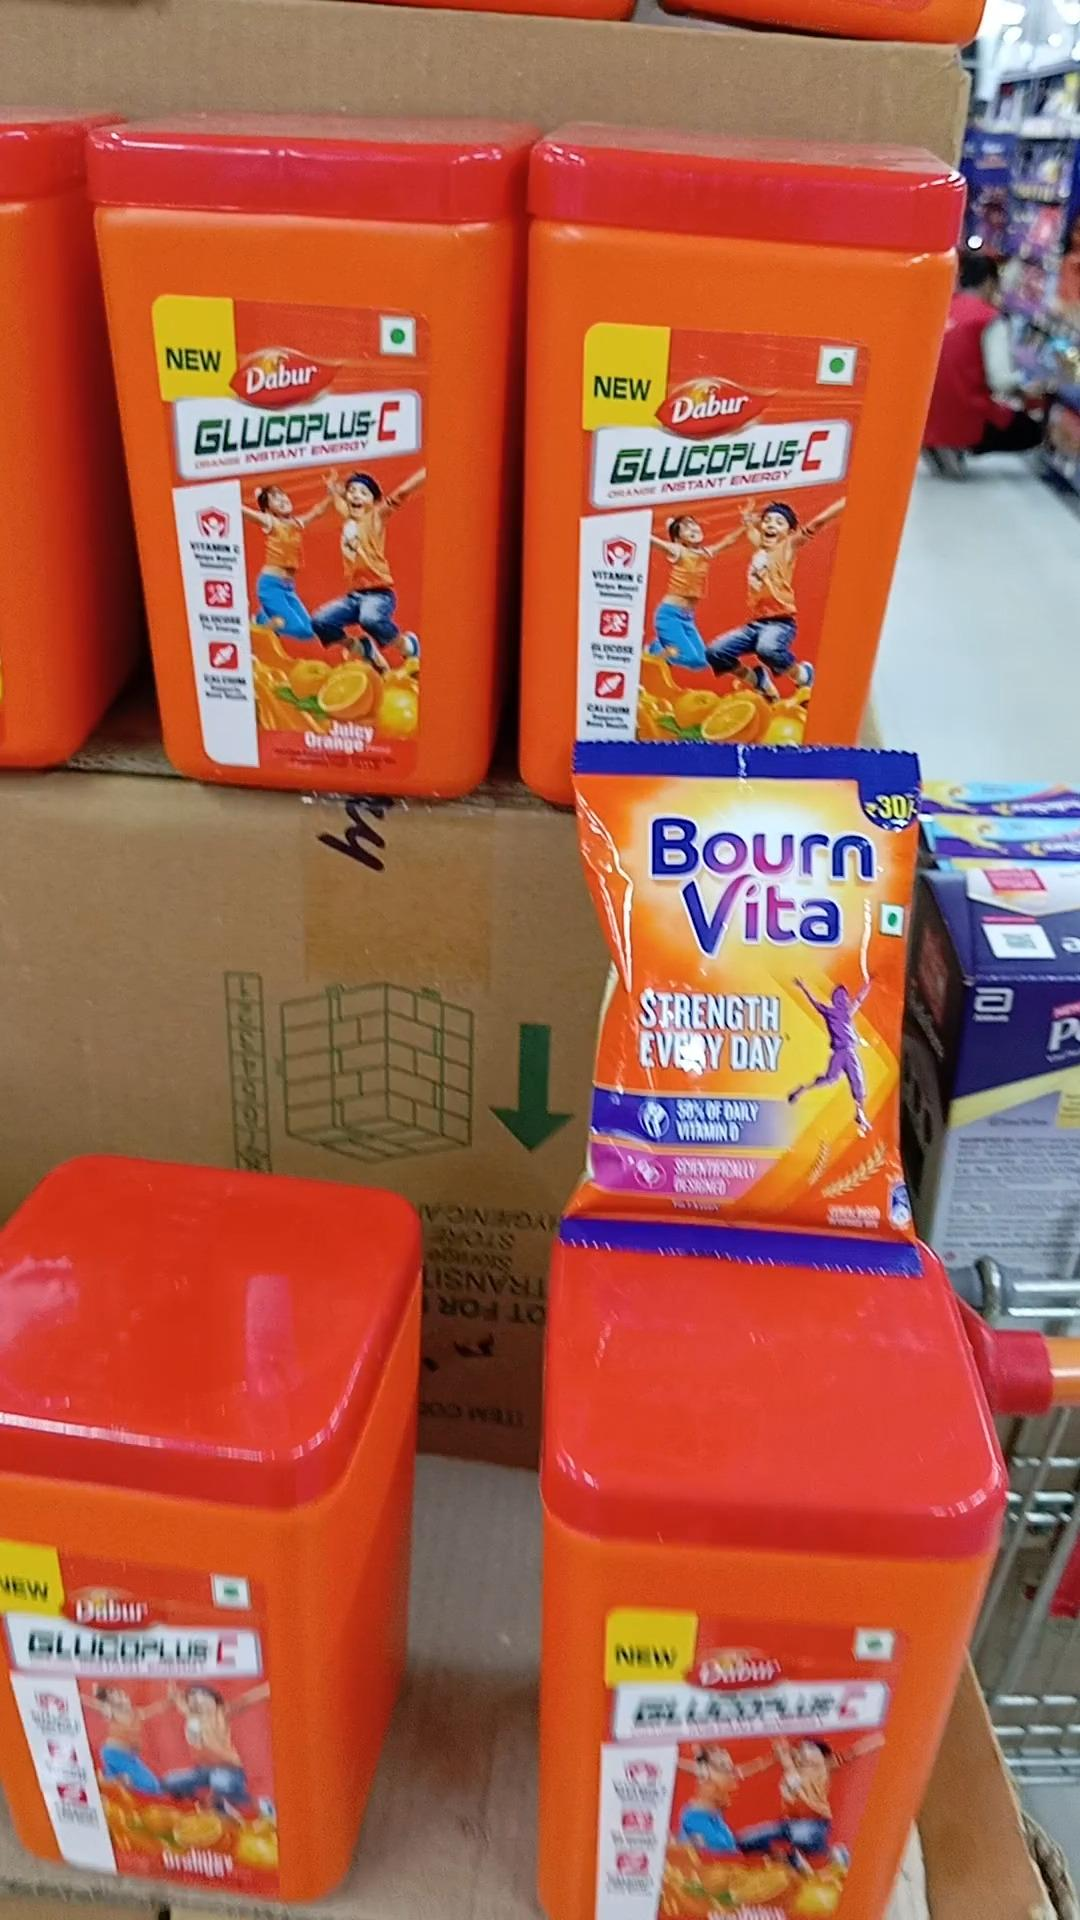BOURN_VITA_75_G_POUCH: (585, 738, 920, 1267)
